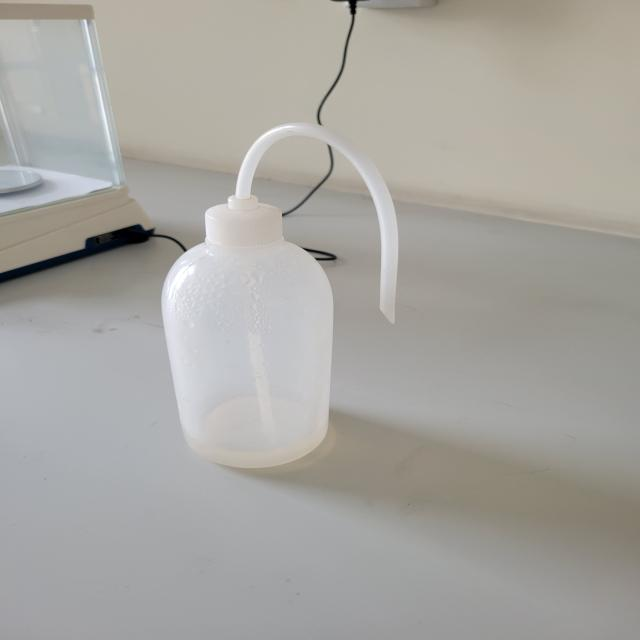Wash_Bottle: (127, 102, 428, 489)
